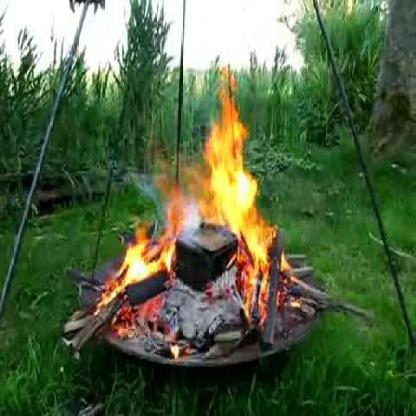fire: (87, 56, 306, 364)
